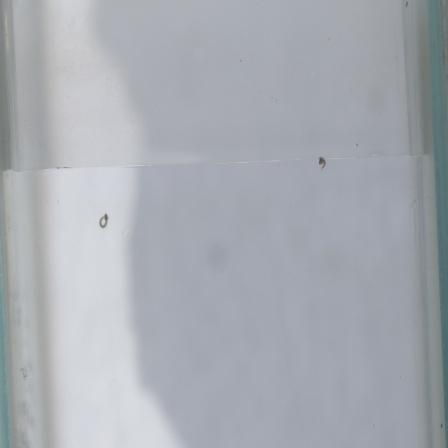Jentik-Nyamuk: (96, 209, 113, 229), (316, 155, 331, 172)
